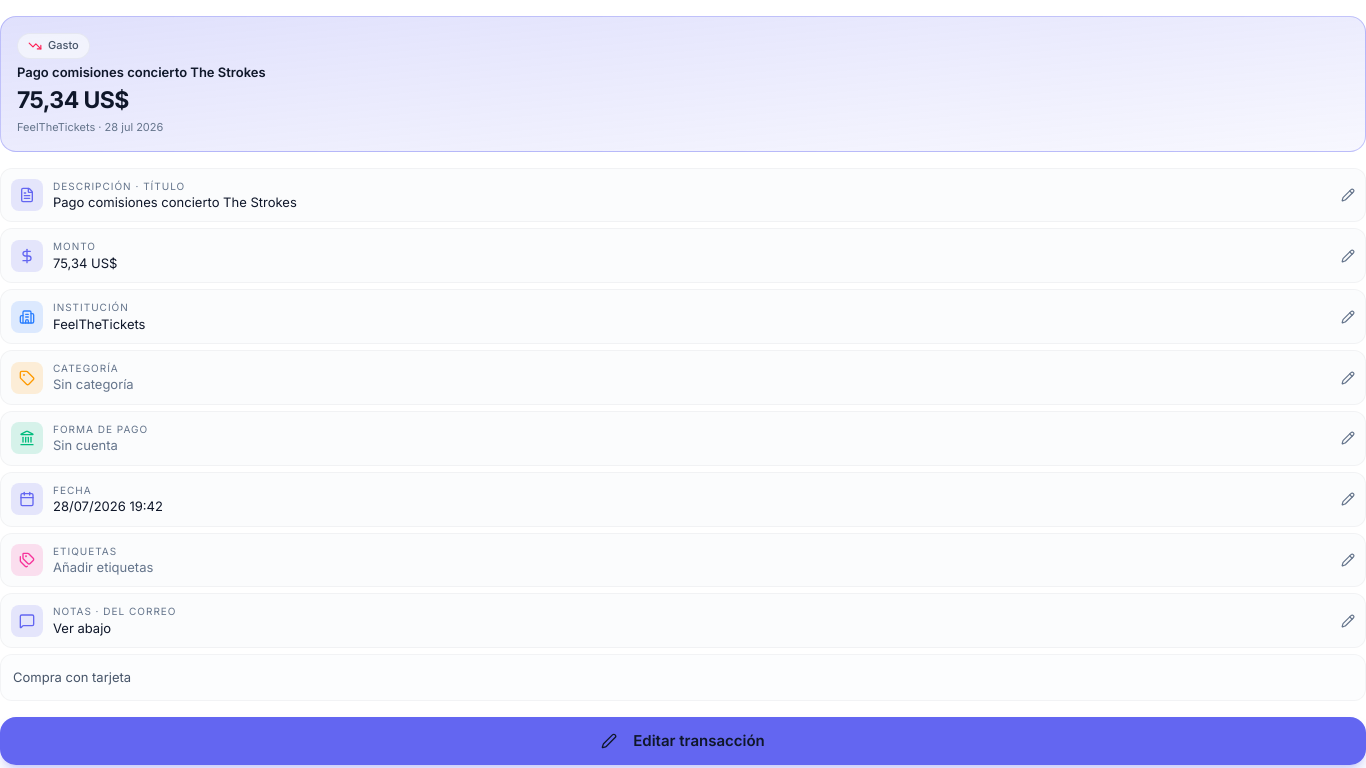
Test case: TransactionDetailClient · stepped experience › opens the editor on the field whose row was tapped
Click the text "Categoría": (86, 368) x1=53 y1=362 x2=119 y2=374
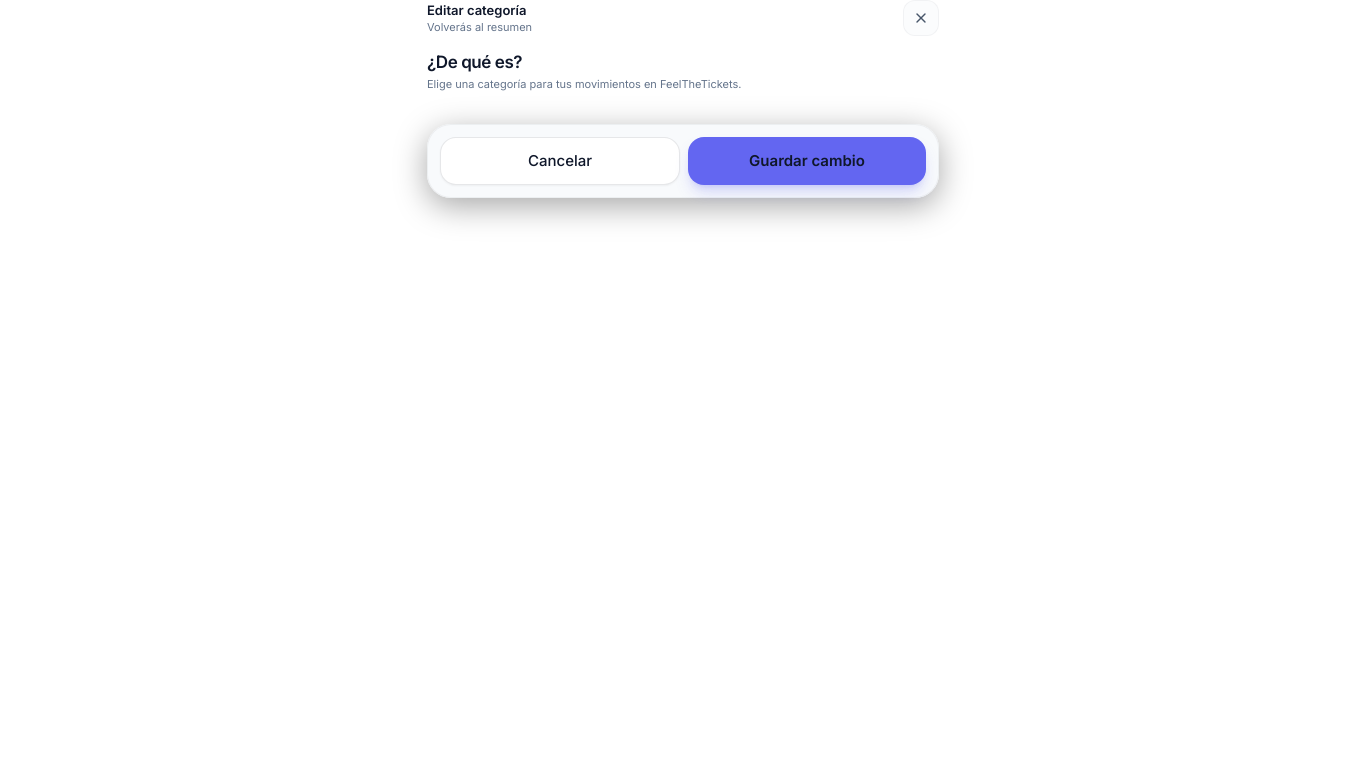
Result: the heading "Editar categoría" is shown at x1=427 y1=2 x2=526 y2=18
Result: the button "Cancelar" is shown at x1=440 y1=137 x2=680 y2=185
Result: the button "Guardar cambio" is shown at x1=688 y1=137 x2=926 y2=185
